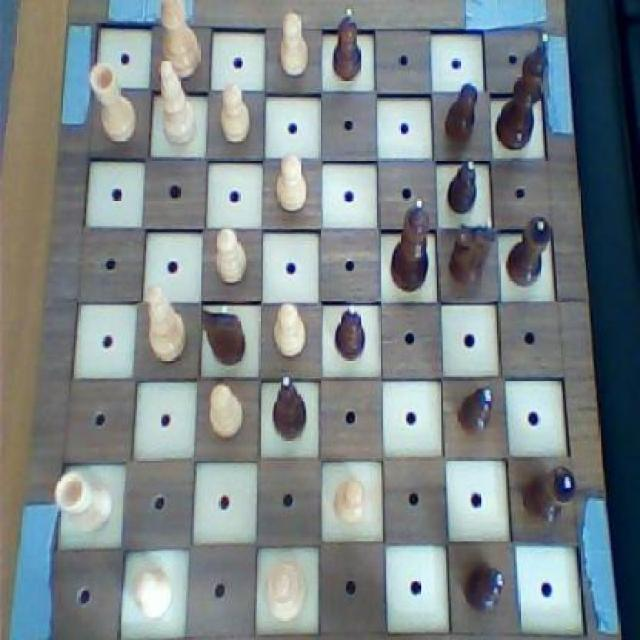bishop: (268, 369, 309, 449)
black-bishop: (491, 26, 550, 153)
black-king: (444, 216, 498, 294), (197, 304, 246, 372)
black-knight: (440, 77, 482, 148), (326, 5, 363, 84), (458, 558, 508, 616), (454, 382, 499, 443), (332, 300, 368, 365), (443, 158, 482, 217)
black-pawn: (386, 192, 433, 296)
black-queen: (518, 460, 577, 528), (502, 214, 553, 288)
black-rook: (154, 52, 201, 150), (142, 284, 188, 368)
white-bishop: (156, 0, 206, 85)
white-knight: (209, 224, 251, 292), (274, 9, 311, 84), (131, 566, 176, 627), (270, 151, 312, 216), (205, 378, 246, 444), (214, 77, 252, 148), (269, 298, 310, 362), (329, 476, 370, 528)
white-pawn: (264, 560, 308, 623)
white-queen: (49, 468, 114, 533), (89, 62, 138, 146)
